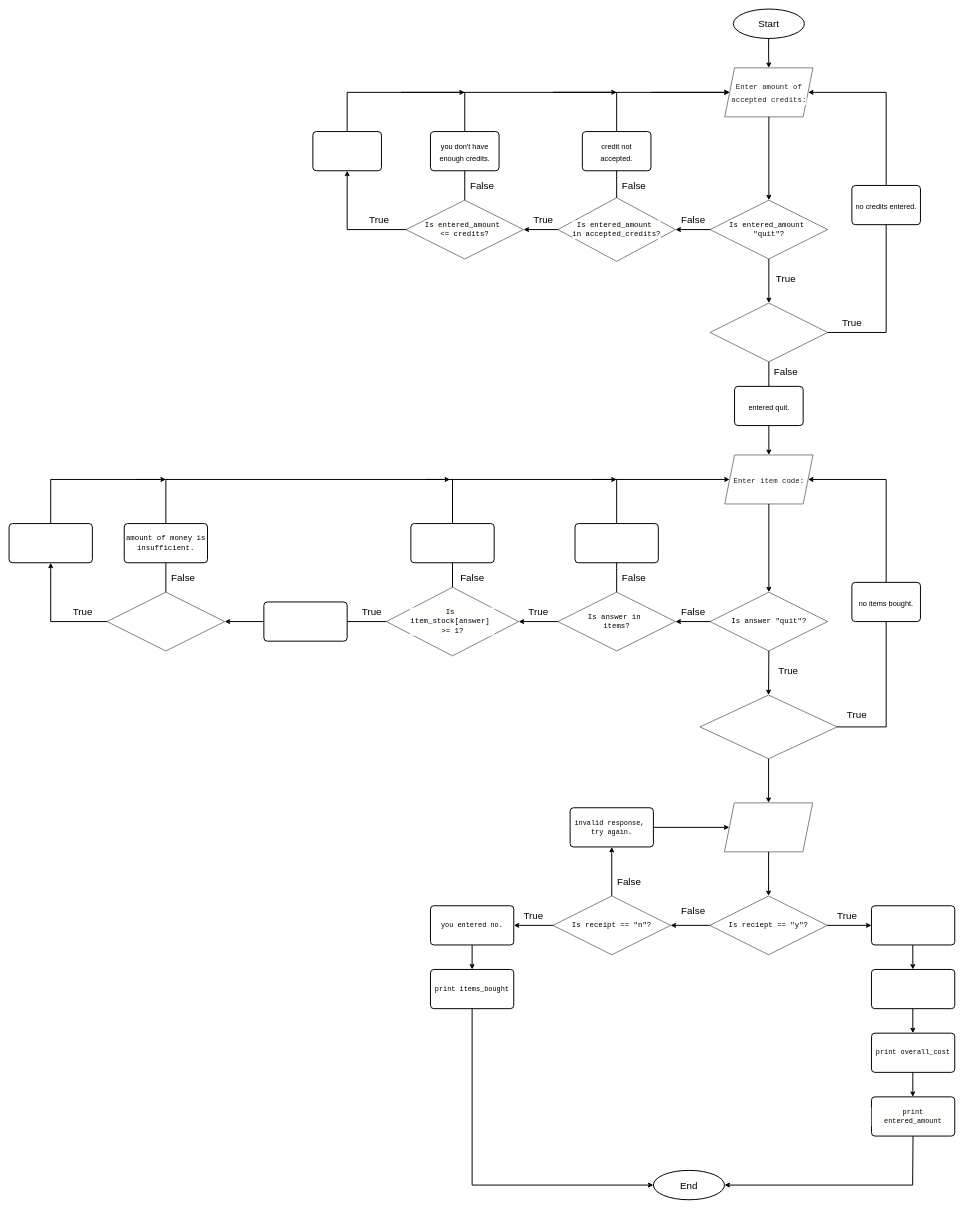
This 963x1208 diagram has some shape labels left out. Each missing label, with the centre of its shape:
amount += entered_amount: point 347,151
invalid input.: point 616,543
Is input "quit" and amount == 0?: point 769,332
Is input "quit" and not items_bought?: point 768,727
Is items[answer][1] <= amount?: point 166,621
item out of stock.: point 452,543
item_stock[answer] -= 1: point 305,621
items_bought.append (items[answer][0]): point 50,543
print kept_amount: point 913,989
Would you like a reciept?: point 768,827
you entered yes.: point 913,925
